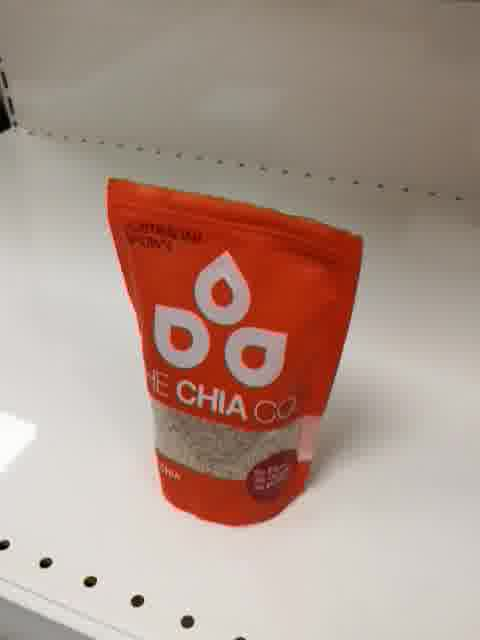whitechia: (102, 171, 368, 532)
